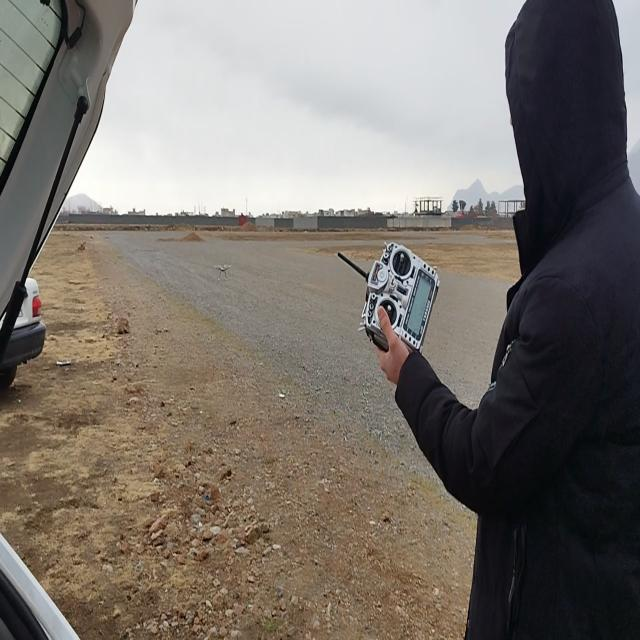drone: (212, 260, 232, 285)
